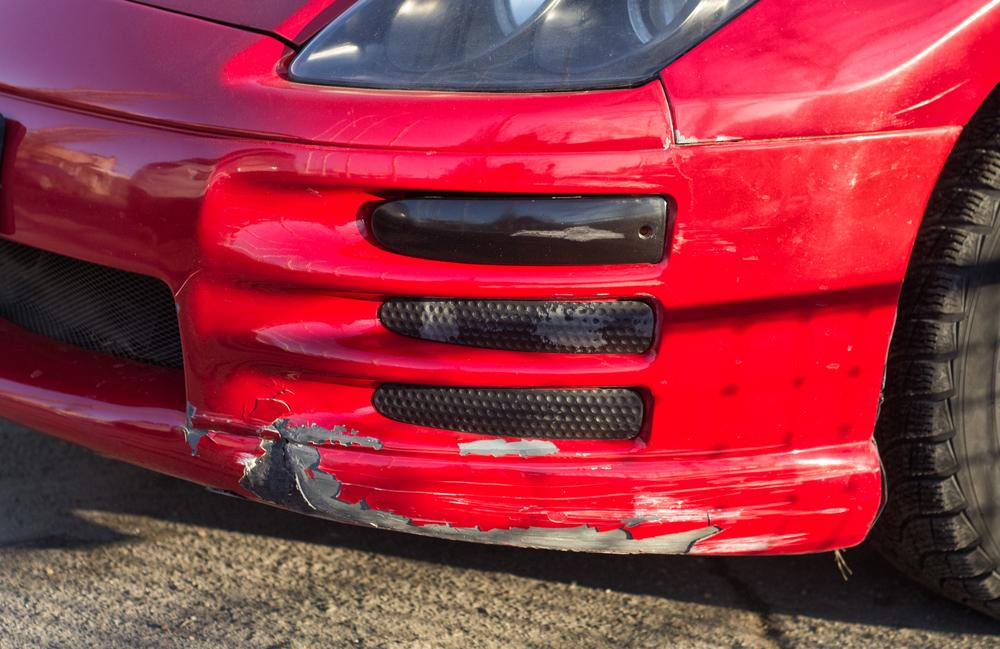scratch: (188, 402, 862, 560), (511, 224, 631, 242)
